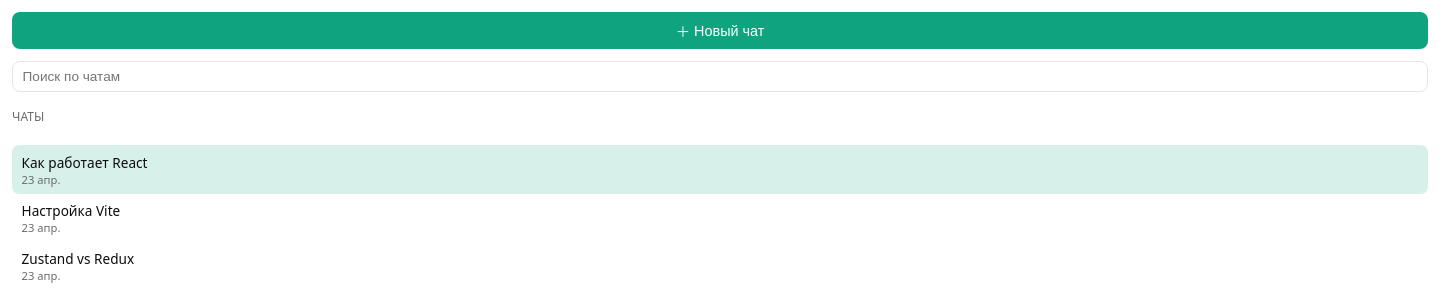
Sidebar › shows empty state when nothing matches
Step 1. Type "несуществующий" into the search field labelled "Поиск по чатам" → (720, 77), box [12,61,1428,92]
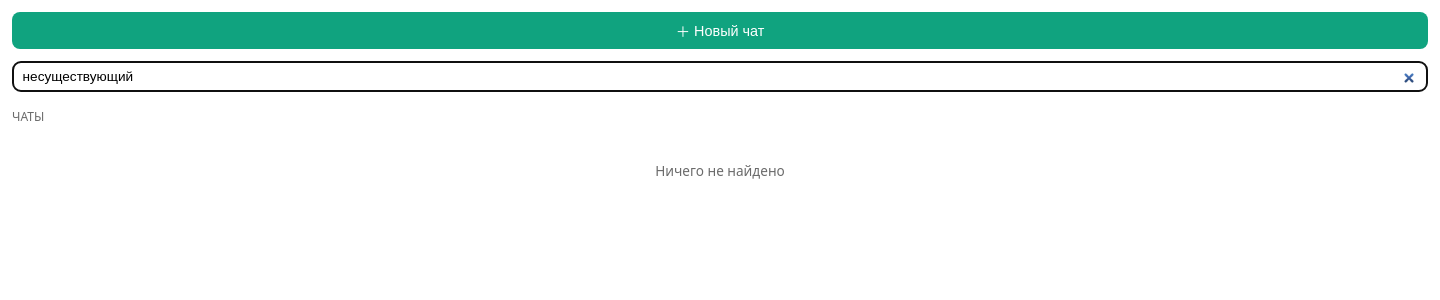
Expected: the text "Ничего не найдено" is shown, [655,161,785,180]
